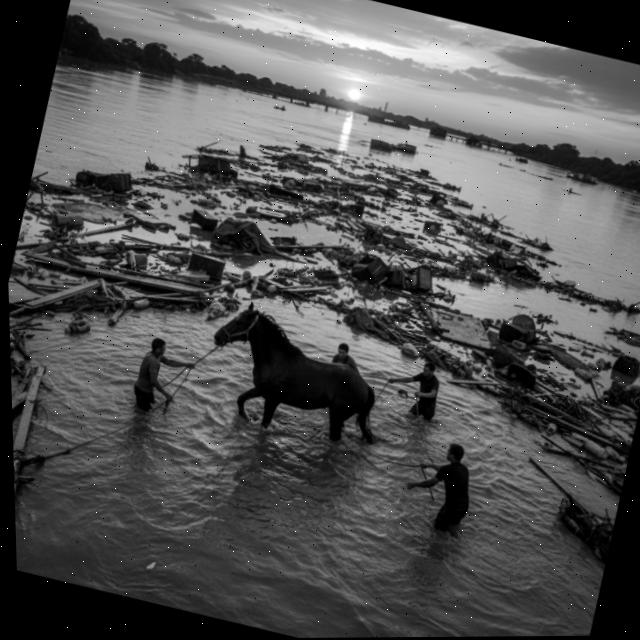civilian: (392, 426, 492, 548), (120, 326, 203, 422), (383, 348, 456, 433), (327, 340, 369, 380)
horse: (186, 290, 406, 463)
